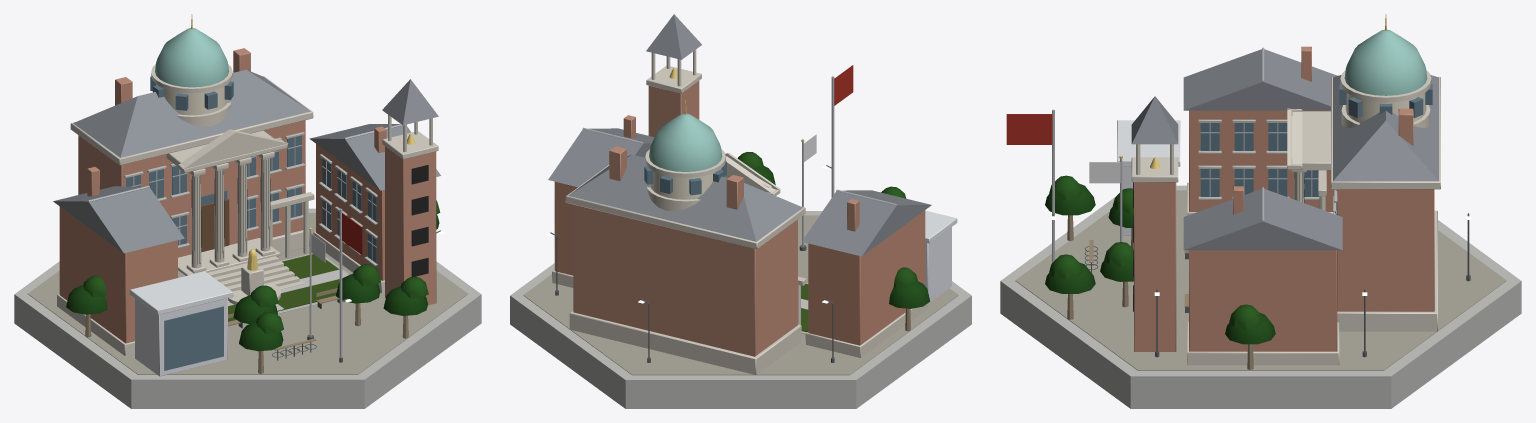
The model's file is university_us.glb.
3 renders of one model, left to right at view 1: azimuth 30°, elevation 25°; view 2: azimuth 150°, elevation 25°; view 3: azimuth 270°, elevation 25°, orthographic. The views are drawn at different scales.
Parts seen in each view (by area): view 1: brick, wall_concrete, stone, roof_slate, pavers, glass, leaf, cladding, copper, dark, wood, turf (+3 smaller); view 2: brick, wall_concrete, roof_slate, stone, pavers, copper, cladding, leaf, metal, plaster, glass, paint (+1 smaller); view 3: brick, wall_concrete, roof_slate, pavers, stone, leaf, glass, copper, cladding, paint, wood, metal (+3 smaller).
Part boxes in pixels (<box>): brick: <box>59,48,436,343</box>; wall_concrete: <box>14,132,481,408</box>; stone: <box>57,64,438,355</box>; roof_slate: <box>53,69,440,253</box>; pavers: <box>28,213,467,374</box>; glass: <box>126,76,376,370</box>; leaf: <box>66,200,440,351</box>; cladding: <box>129,271,233,376</box>; copper: <box>155,28,228,87</box>; dark: <box>191,159,428,276</box>; wood: <box>85,199,408,373</box>; turf: <box>228,254,342,321</box>; brick: <box>554,81,925,356</box>; wall_concrete: <box>510,211,971,408</box>; roof_slate: <box>548,14,931,256</box>; stone: <box>552,49,927,375</box>; pavers: <box>523,215,958,375</box>; copper: <box>649,113,722,171</box>; cladding: <box>925,210,957,303</box>; leaf: <box>737,152,930,308</box>; metal: <box>582,76,897,246</box>; plaster: <box>650,169,721,199</box>; glass: <box>644,161,726,195</box>; paint: <box>834,65,853,105</box>; brick: <box>1134,46,1434,351</box>; wall_concrete: <box>1000,119,1521,408</box>; roof_slate: <box>1131,49,1438,250</box>; pavers: <box>1015,190,1506,370</box>; stone: <box>1131,70,1440,365</box>; leaf: <box>1045,175,1275,344</box>; glass: <box>1200,84,1432,214</box>; copper: <box>1344,29,1427,95</box>; cladding: <box>1117,120,1180,235</box>; paint: <box>1006,114,1052,144</box>; wood: <box>1067,212,1335,369</box>; metal: <box>1052,47,1264,262</box>.
Size of the model in its own units: 22.34 by 15.6 by 24.6.
